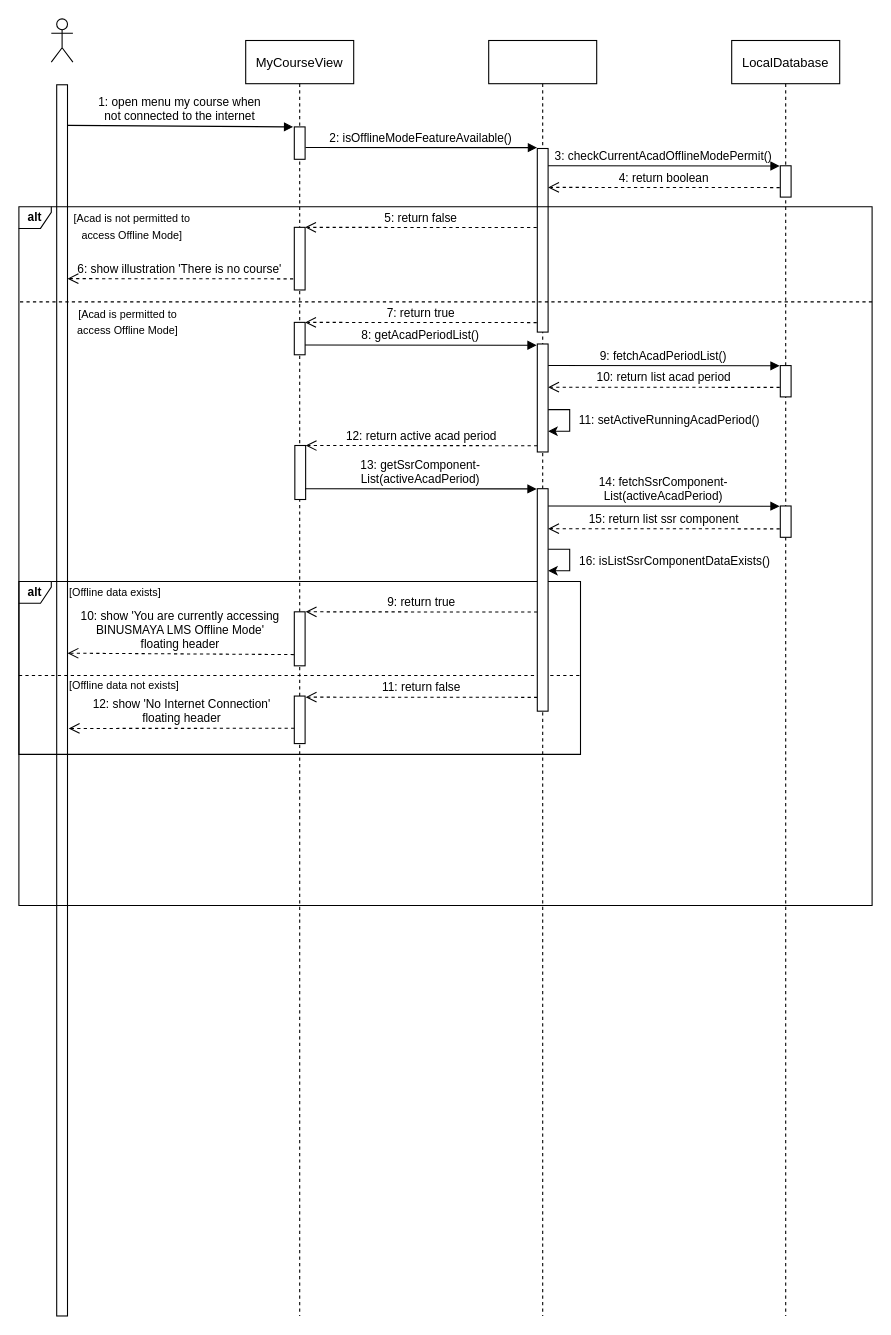
The diagram is 891 pixels wide and 1335 high, and some of its shapes have lost their labels. The centre of each missing label's shape, as x and y in pixels:
HomeUtilities: the point at 542,677
User: the point at 61,40
